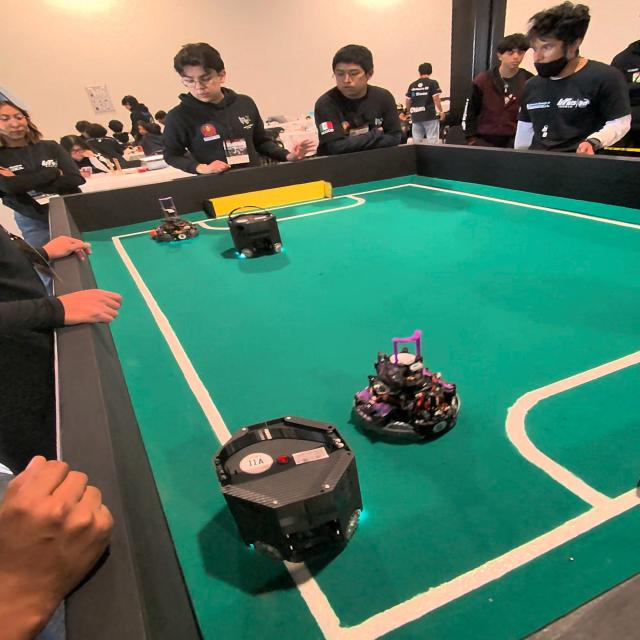Robot: (190, 410, 371, 575), (354, 342, 462, 448), (227, 196, 291, 270), (148, 196, 198, 247)
pelota: (141, 223, 160, 243)
